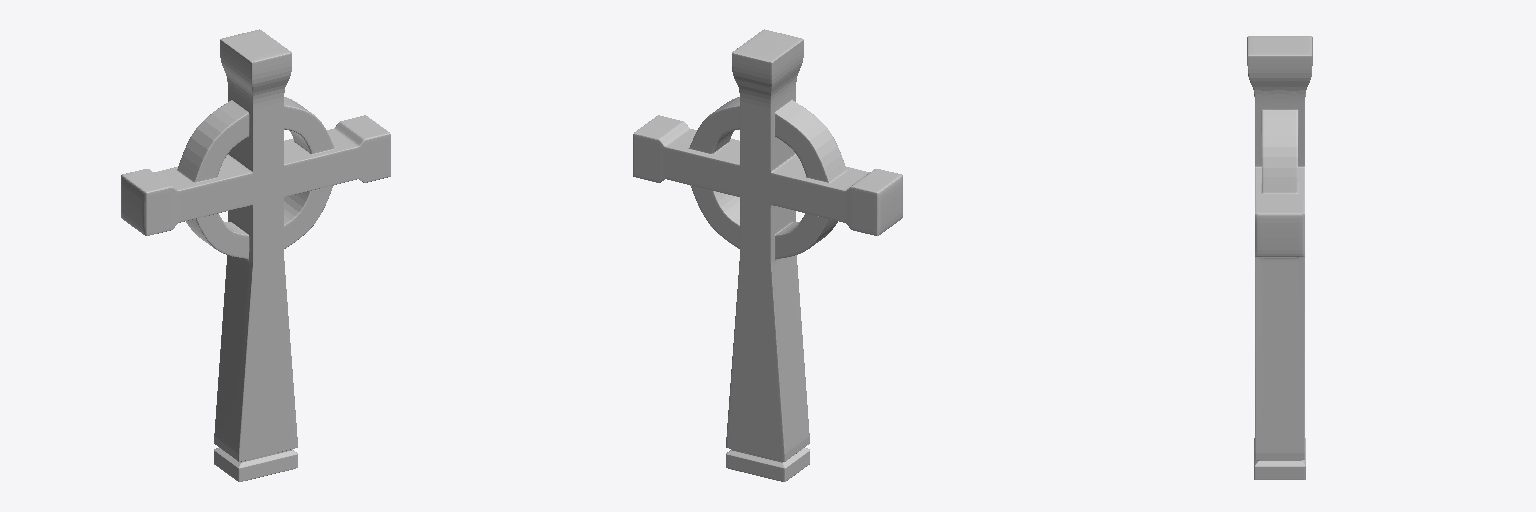
File: grave.obj
3 views of the same model, side by side, from view 1: azimuth 30°, elevation 25°; view 2: azimuth 150°, elevation 25°; view 3: azimuth 270°, elevation 25° (orthographic).
Parts seen in each view (by area): view 1: Celtic-Cross_Cube; view 2: Celtic-Cross_Cube; view 3: Celtic-Cross_Cube.
Boxes of the visible parts, x1=… form: Celtic-Cross_Cube: x1=121, y1=29, x2=390, y2=481; Celtic-Cross_Cube: x1=633, y1=29, x2=902, y2=481; Celtic-Cross_Cube: x1=1247, y1=36, x2=1312, y2=479.
Bounding box in the file's own units: 0.1591 × 0.2589 × 0.0363.